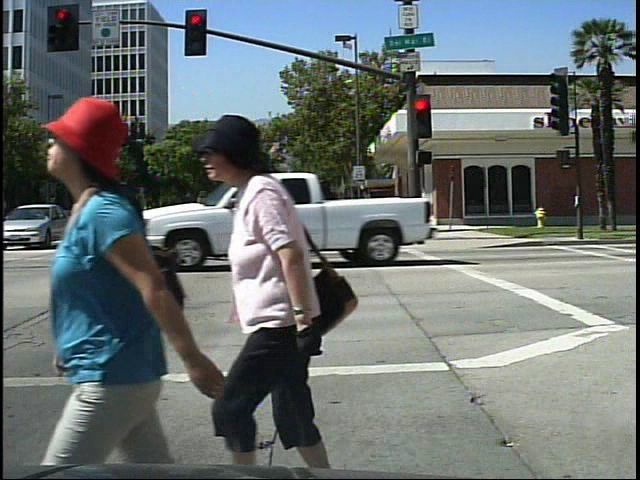person: (205, 111, 388, 474), (58, 74, 202, 469)
